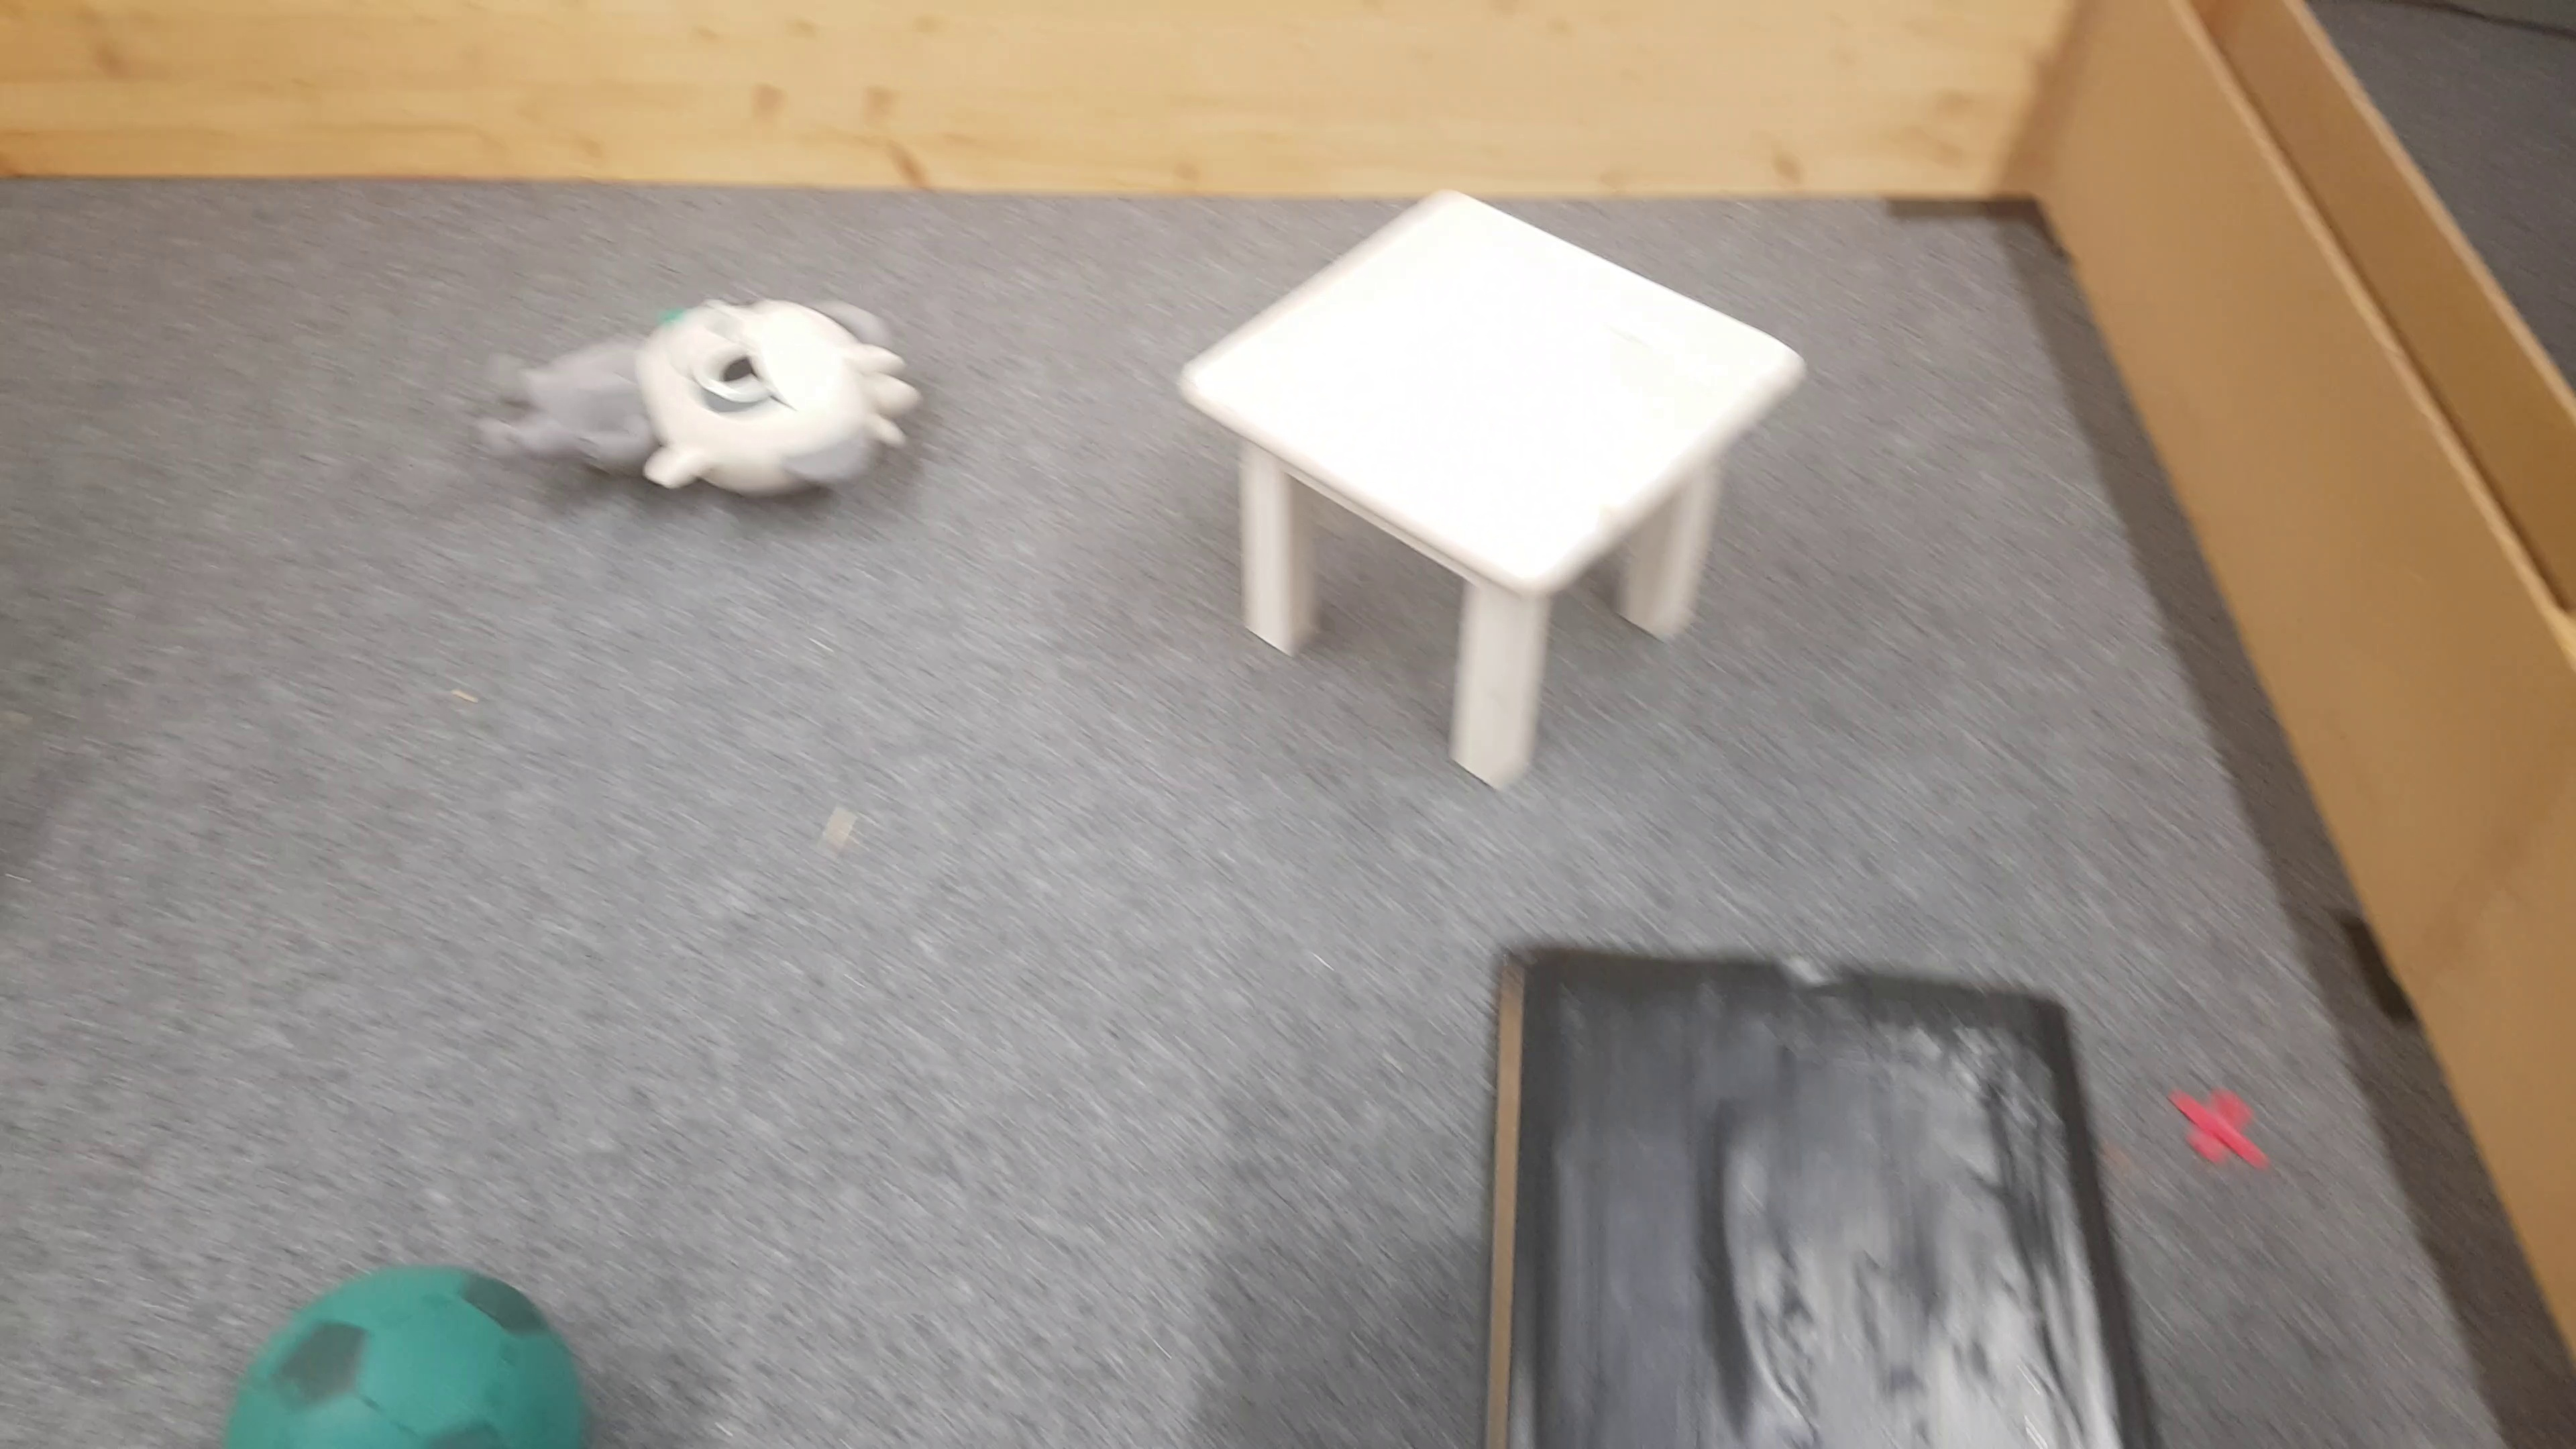grasp: (478, 292, 915, 518)
kick: (223, 1263, 594, 1449)
push: (1479, 927, 2160, 1449)
